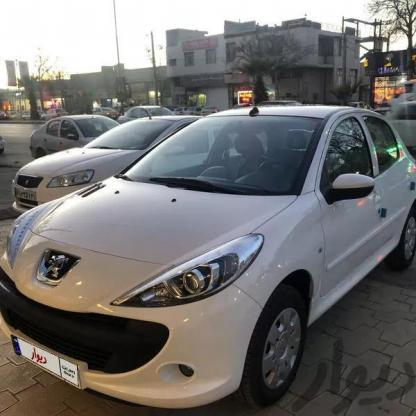Car: (0, 100, 416, 416), (0, 100, 224, 230), (0, 107, 80, 173)
